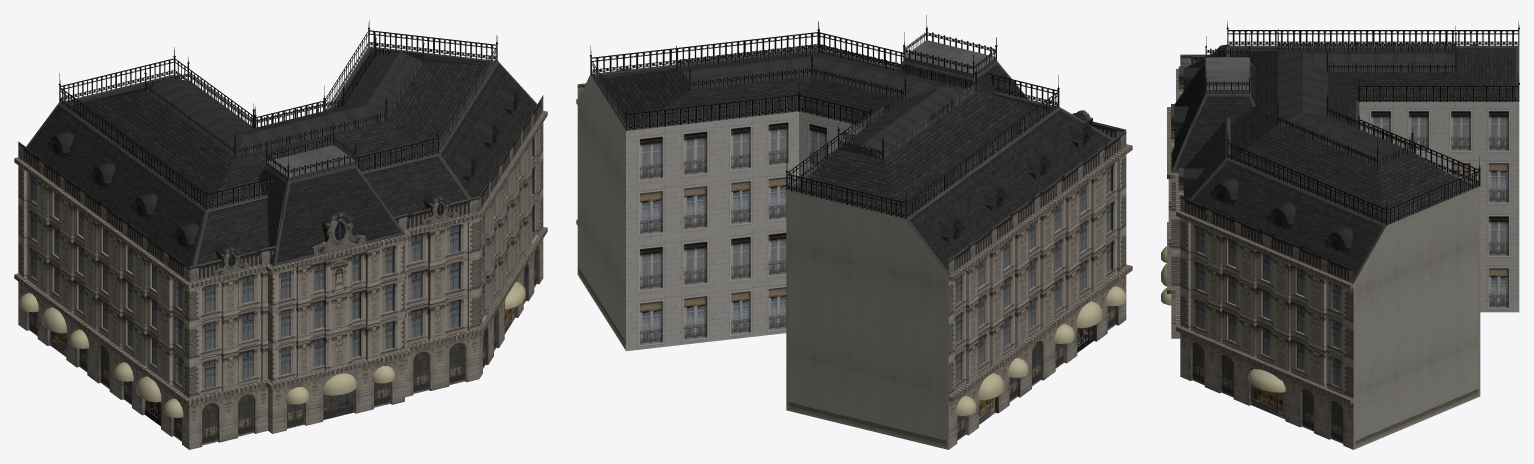
The picture shows the model from 3 angles, left to right: view 1: azimuth 30°, elevation 25°; view 2: azimuth 150°, elevation 25°; view 3: azimuth 270°, elevation 25°; orthographic projection. The views are drawn at different scales.
Visible parts, largest first — view 1: german135; view 2: german135; view 3: german135.
Part boxes in pixels (x1,y1,x2,y2): german135: (14,20,547,449); german135: (576,15,1132,449); german135: (1161,21,1519,449).
Bounding box in the file's own units: 4668 × 2556 × 3215.
1 material, 1 textured.
